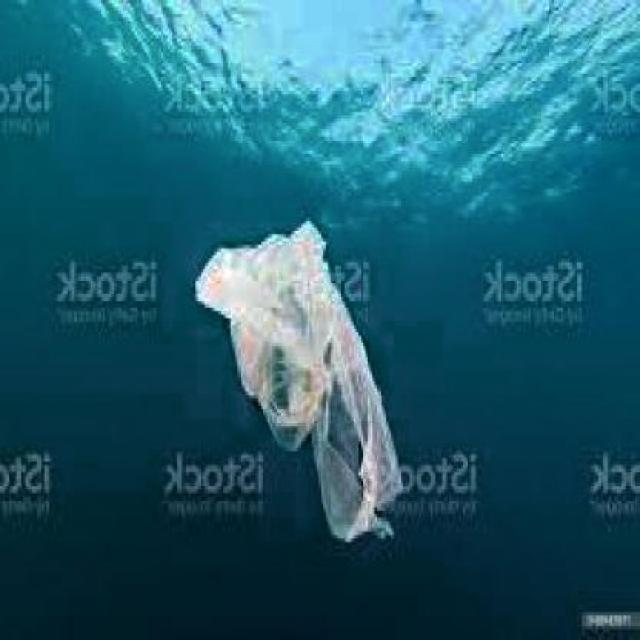pbag: (193, 217, 405, 549)
